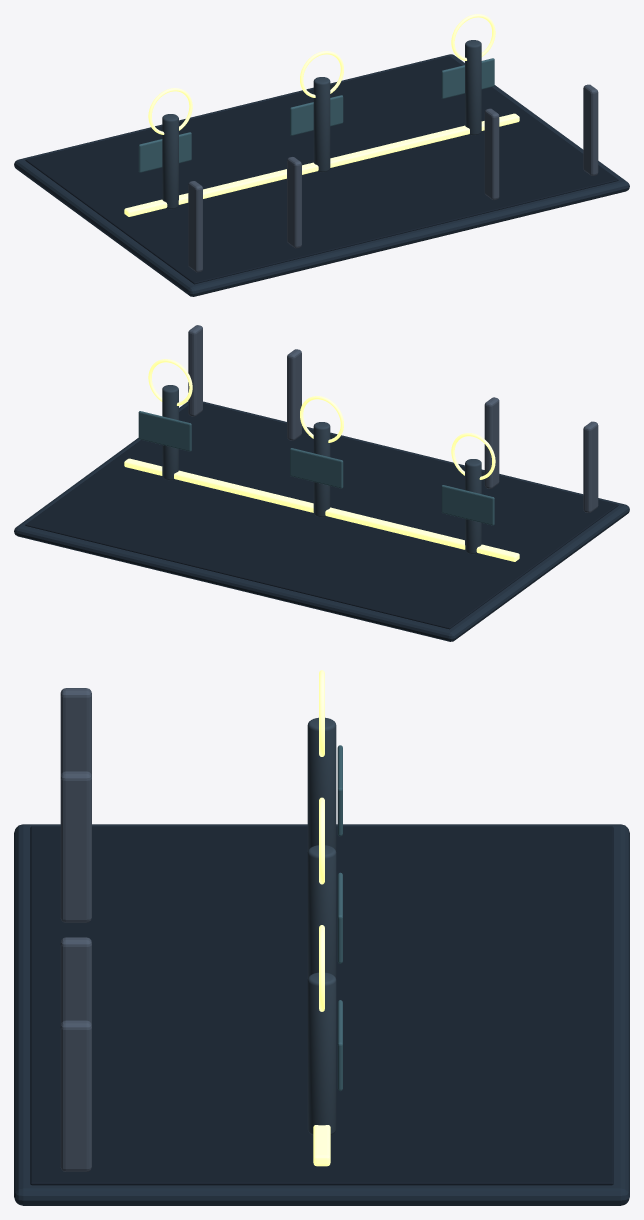
File: timeline.glb
3 views of the same model, one above another, from view 1: azimuth 30°, elevation 25°; view 2: azimuth 150°, elevation 25°; view 3: azimuth 270°, elevation 25° (orthographic). The views are drawn at different scales.
Visible parts, largest first — view 1: inset, platform, timeline_rail, timeline_pillar.001, timeline_pillar.002, timeline_pillar, side_fin.002, side_fin.003, side_fin, side_fin.001, timeline_plaque.002, timeline_plaque (+4 smaller); view 2: inset, platform, timeline_rail, timeline_plaque.001, timeline_plaque, timeline_plaque.002, side_fin, side_fin.002, side_fin.001, side_fin.003, timeline_pillar.001, timeline_pillar.002 (+4 smaller); view 3: inset, platform, side_fin.001, side_fin.003, timeline_pillar.002, timeline_pillar, timeline_pillar.001, side_fin.002, side_fin, timeline_rail.
Part boxes in pixels (x1,y1,x2,y2): inset: (25, 56, 618, 284); platform: (14, 54, 629, 296); timeline_rail: (124, 113, 519, 216); timeline_pillar.001: (313, 77, 330, 172); timeline_pillar.002: (465, 40, 481, 135); timeline_pillar: (162, 114, 178, 209); side_fin.002: (484, 108, 499, 200); side_fin.003: (583, 84, 598, 175); side_fin: (188, 181, 202, 272); side_fin.001: (287, 157, 301, 248); timeline_plaque.002: (441, 58, 494, 98); timeline_plaque: (138, 132, 191, 172); inset: (25, 403, 618, 629); platform: (14, 401, 629, 641); timeline_rail: (124, 458, 519, 561); timeline_plaque.001: (290, 448, 343, 488); timeline_plaque: (441, 485, 494, 525); timeline_plaque.002: (138, 411, 191, 451); side_fin: (583, 421, 598, 512); side_fin.002: (287, 349, 301, 440); side_fin.001: (484, 397, 499, 488); side_fin.003: (188, 325, 202, 416); timeline_pillar.001: (313, 422, 330, 517); timeline_pillar.002: (162, 385, 178, 480); inset: (30, 826, 613, 1185); platform: (14, 824, 629, 1205); side_fin.001: (60, 771, 91, 922); side_fin.003: (60, 1020, 91, 1171); timeline_pillar.002: (307, 972, 336, 1134); timeline_pillar: (307, 717, 336, 851); timeline_pillar.001: (307, 845, 336, 978); side_fin.002: (60, 937, 91, 1024); side_fin: (60, 688, 91, 775); timeline_rail: (313, 1125, 330, 1166).
Size of the model in its own units: 13.4 by 3.74 by 9.4.
